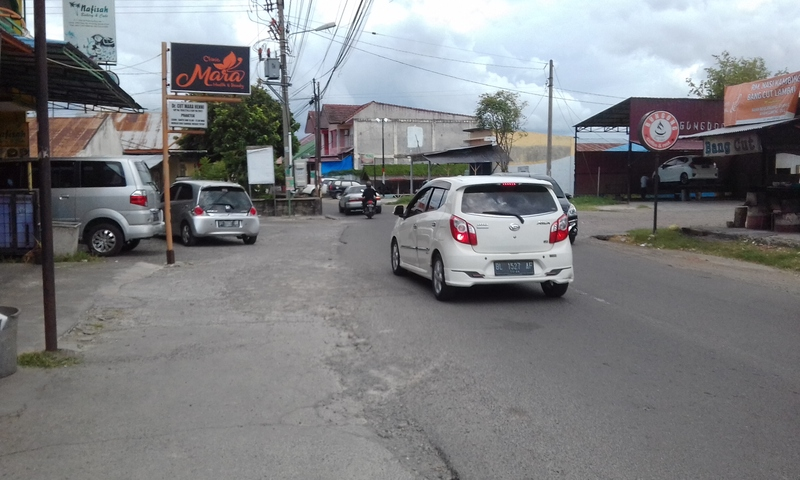car: (388, 172, 576, 307), (4, 153, 169, 255), (158, 176, 263, 253)
